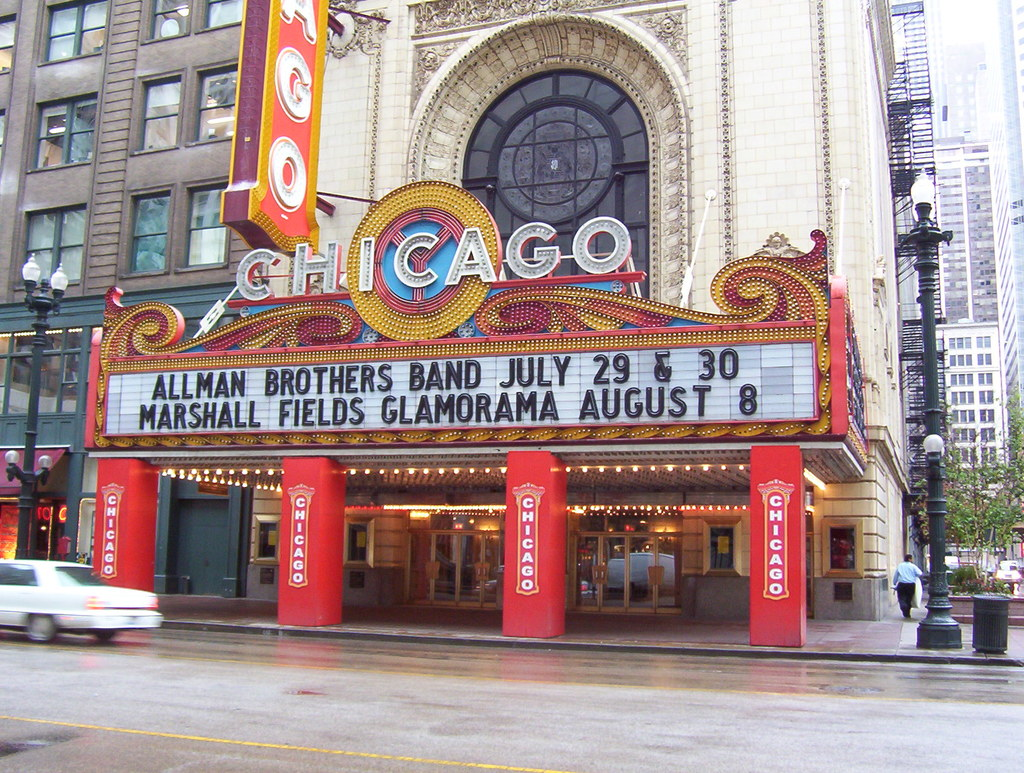Car: (0, 556, 161, 644), (992, 558, 1023, 580)
